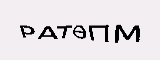А: (37, 25, 58, 42)
М: (113, 24, 142, 43)
П: (88, 24, 110, 43)
Р: (19, 23, 34, 39)
Т: (56, 24, 72, 40)
Ө: (71, 25, 87, 41)
